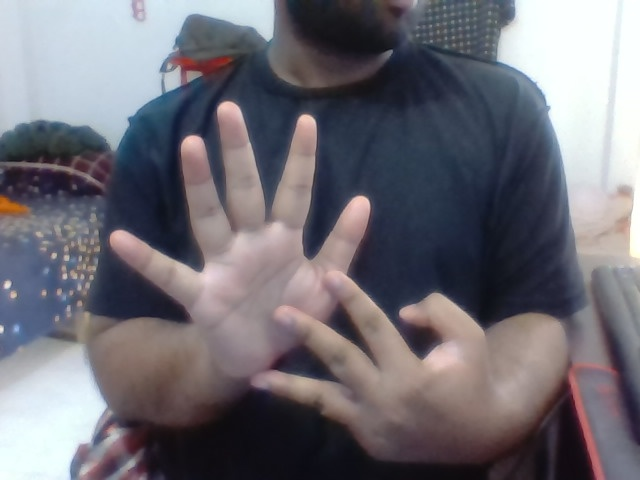M: (97, 105, 517, 464)
